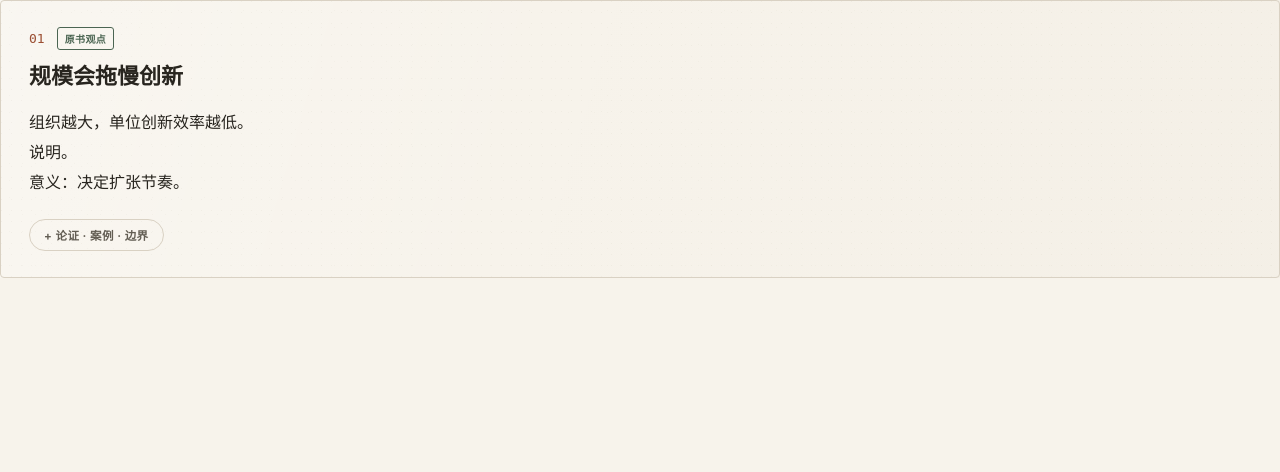
CoreIdeaSection genre fields › shows the fields belonging to the book's argument structure
Click the heading "论证 · 案例 · 边界" at (96, 235), box x1=29 y1=219 x2=164 y2=251
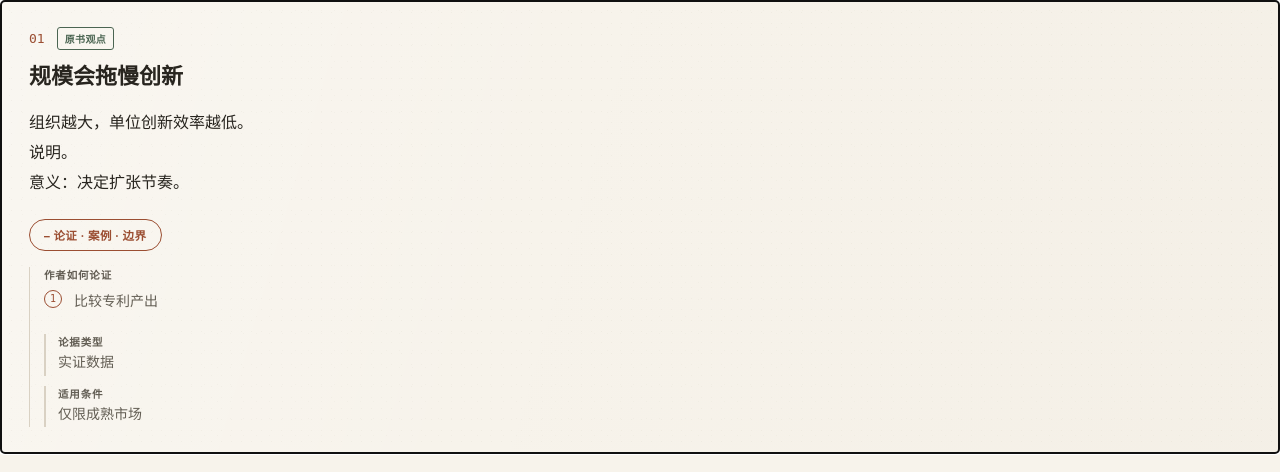
Result: the heading "论据类型" is shown at x1=58 y1=336 x2=103 y2=349
Result: the text "实证数据" is shown at x1=58 y1=355 x2=114 y2=370
Result: the text "仅限成熟市场" is shown at x1=58 y1=407 x2=142 y2=422
